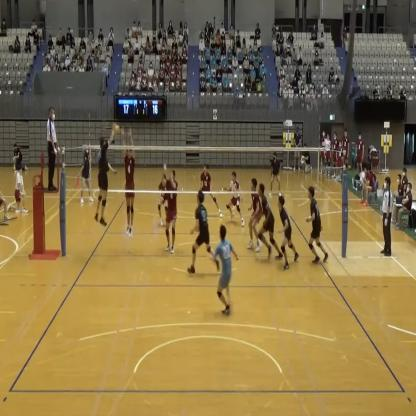spike: (93, 120, 120, 230)
